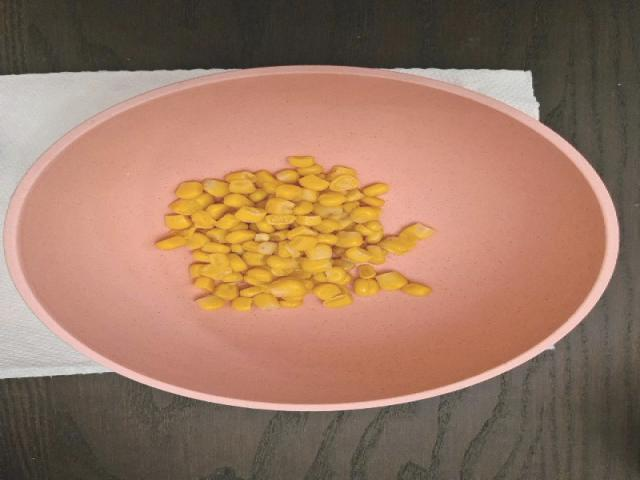kichen waste: (158, 156, 426, 310)
